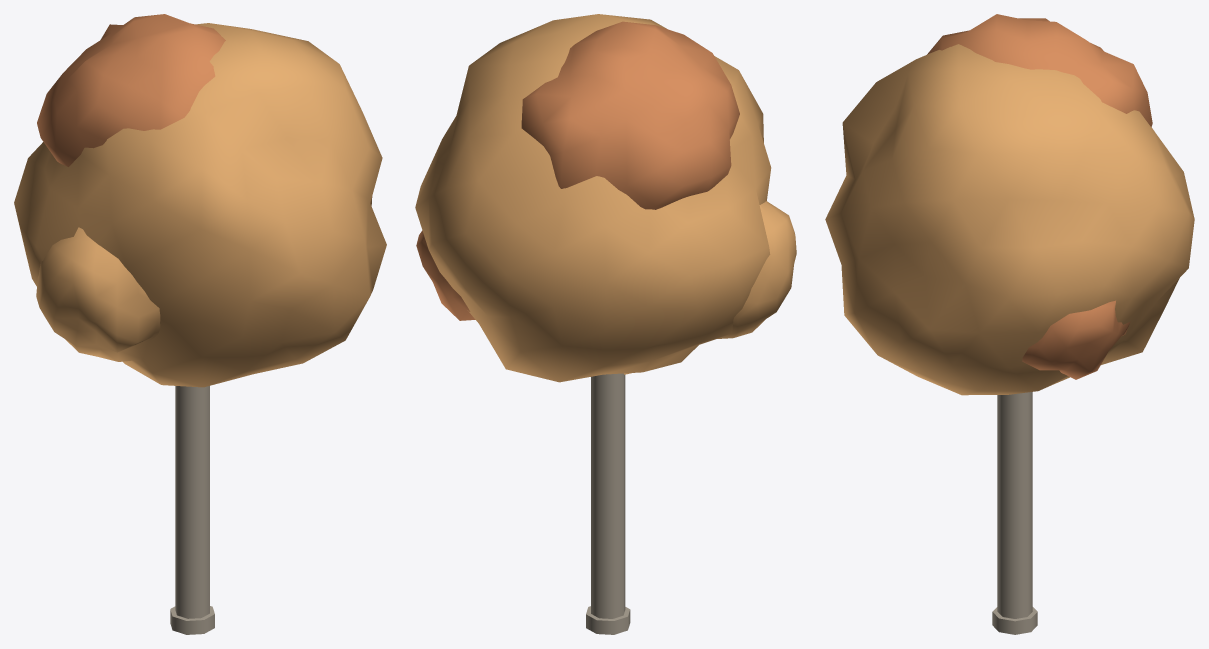
The model's file is maple_tree.glb.
3 views of the same model, side by side, from view 1: azimuth 30°, elevation 25°; view 2: azimuth 150°, elevation 25°; view 3: azimuth 270°, elevation 25° (orthographic). The views are drawn at different scales.
Visible parts, largest first — view 1: canopy_main, canopy_top, canopy_l, trunk, root_flare; view 2: canopy_main, canopy_top, trunk, canopy_l, canopy_r, root_flare; view 3: canopy_main, canopy_top, trunk, canopy_r, root_flare.
Boxes of the visible parts, left/top/right/bottom form: canopy_main: left=14, top=23, right=386, bottom=387; canopy_top: left=37, top=14, right=225, bottom=166; canopy_l: left=36, top=227, right=160, bottom=361; trunk: left=175, top=386, right=209, bottom=618; root_flare: left=170, top=606, right=214, bottom=634; canopy_main: left=415, top=14, right=771, bottom=382; canopy_top: left=521, top=21, right=739, bottom=209; trunk: left=591, top=373, right=625, bottom=618; canopy_l: left=717, top=201, right=796, bottom=338; canopy_r: left=416, top=230, right=475, bottom=320; root_flare: left=586, top=606, right=630, bottom=634; canopy_main: left=825, top=44, right=1194, bottom=395; canopy_top: left=927, top=14, right=1152, bottom=126; trunk: left=997, top=392, right=1032, bottom=618; canopy_r: left=1022, top=300, right=1130, bottom=379; root_flare: left=992, top=607, right=1037, bottom=634.
Size of the model in its own units: 3.09 by 5.19 by 2.93.
